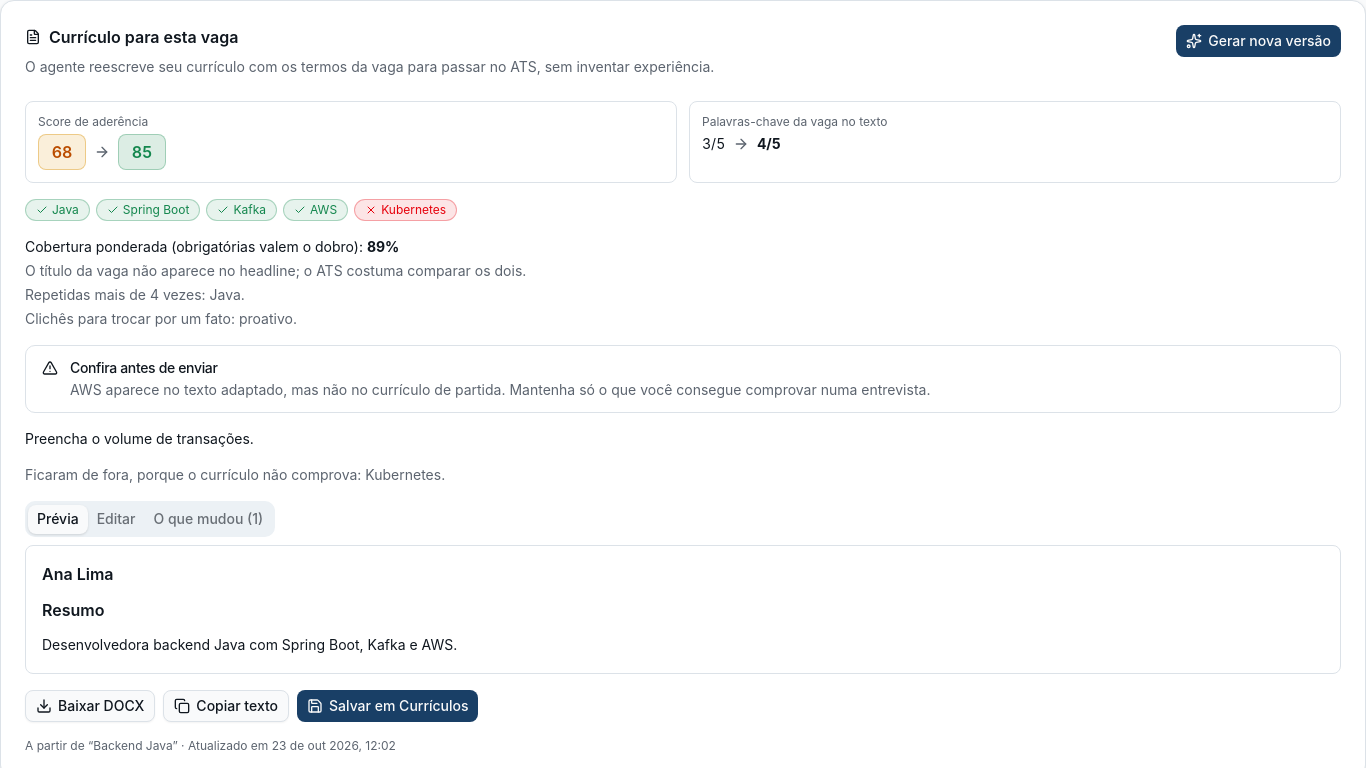
TailoredResumeCard › mostra o ganho em score e palavras-chave e alerta sobre skills que o currículo não comprova
Expected: the text named "Aderência 68" is shown, [38,134,86,170]
Expected: the text "89%" is shown, [367,238,399,255]
Click the tab "O que mudou (1)" at (208, 519), box [144,504,272,534]
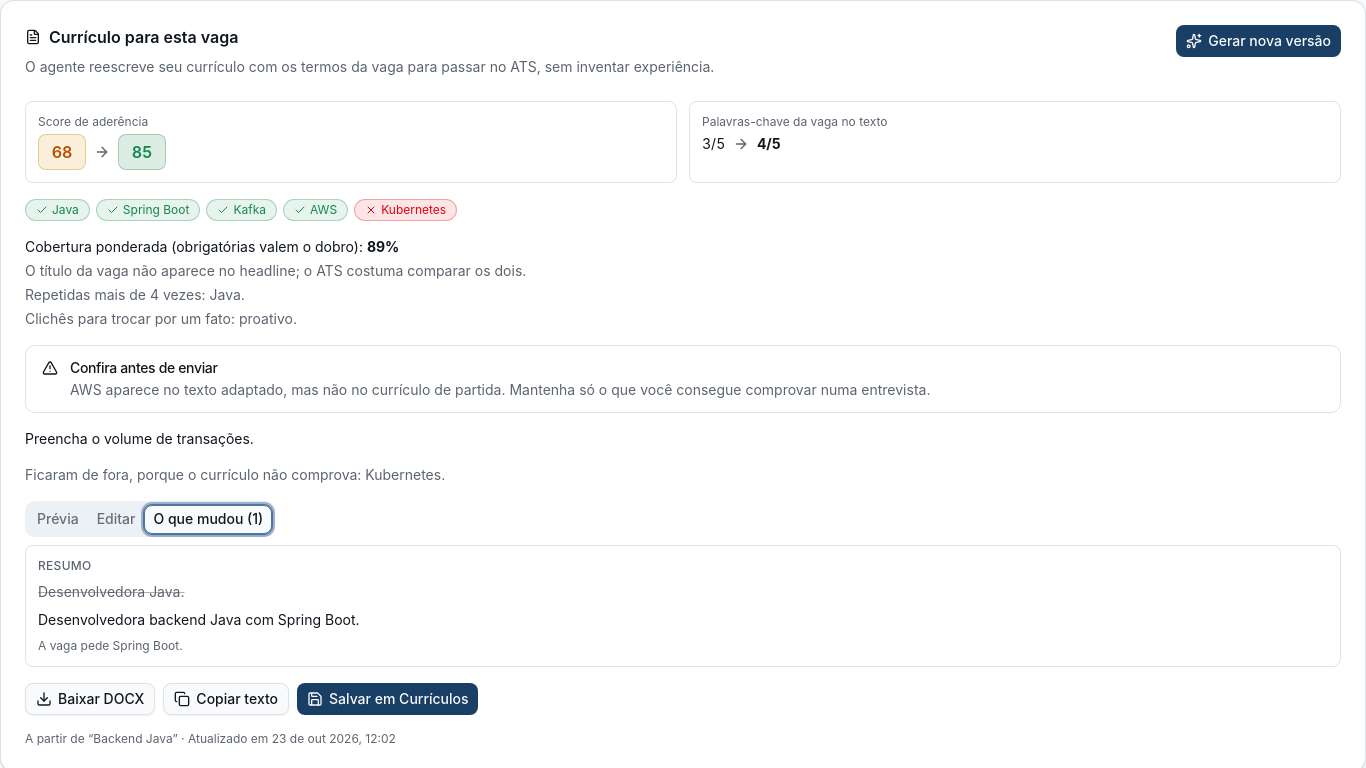
Result: the text "A vaga pede Spring Boot." is shown at [38,638,183,653]
